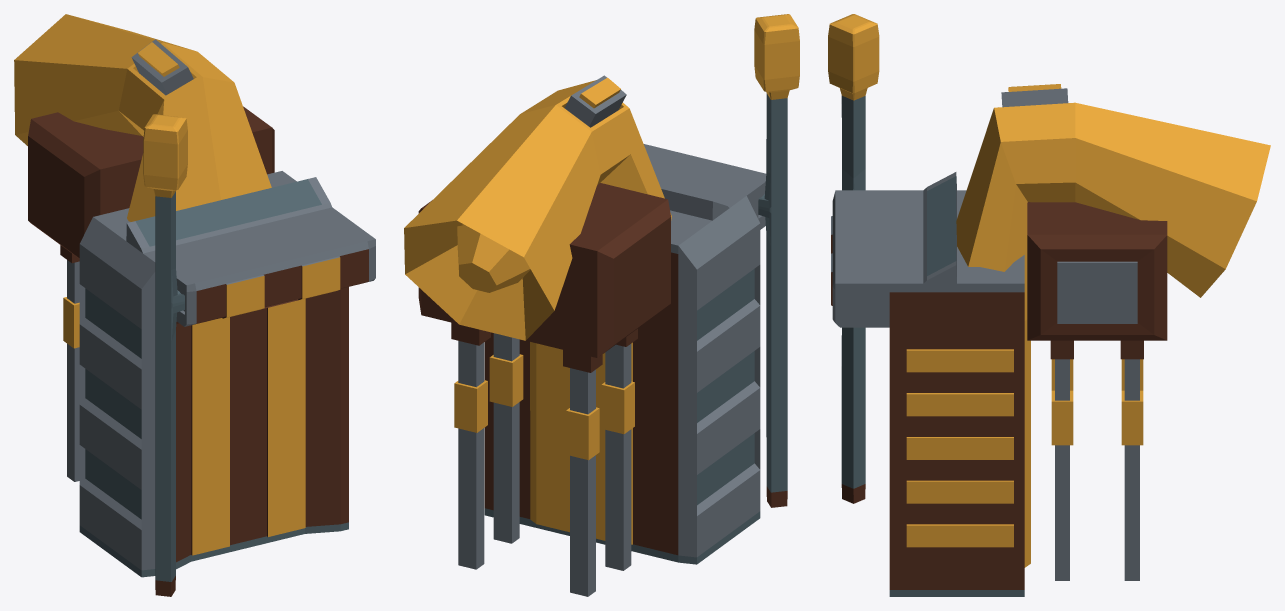
The picture shows the model from 3 angles, left to right: view 1: azimuth 30°, elevation 25°; view 2: azimuth 150°, elevation 25°; view 3: azimuth 270°, elevation 25°; orthographic projection. The views are drawn at different scales.
Visible parts, largest first — view 1: object 4, object 5, Cylinder, object 7, Cube, Cylinder.001, object 6; view 2: Cylinder, Cube, object 4, object 5, Cylinder.001, object 6; view 3: Cylinder, object 5, Cube, object 4, object 7, Cylinder.001, object 6.
Part boxes in pixels (bbox=[...]): object 4: bbox=[79, 171, 375, 570]; object 5: bbox=[176, 249, 368, 562]; Cylinder: bbox=[14, 14, 271, 221]; object 7: bbox=[192, 257, 340, 555]; Cube: bbox=[28, 106, 274, 481]; Cylinder.001: bbox=[143, 114, 187, 596]; object 6: bbox=[79, 179, 348, 577]; Cylinder: bbox=[404, 75, 671, 544]; Cube: bbox=[418, 183, 670, 596]; object 4: bbox=[643, 144, 766, 557]; object 5: bbox=[484, 252, 678, 555]; Cylinder.001: bbox=[754, 14, 799, 507]; object 6: bbox=[484, 269, 760, 564]; Cylinder: bbox=[956, 84, 1270, 567]; object 5: bbox=[831, 234, 1024, 589]; Cube: bbox=[1027, 202, 1167, 580]; object 4: bbox=[831, 172, 1024, 327]; object 7: bbox=[906, 349, 1013, 547]; Cylinder.001: bbox=[828, 14, 879, 503]; object 6: bbox=[889, 176, 1024, 596].
Bounding box in the file's own units: 1.04 × 2.07 × 1.74.
